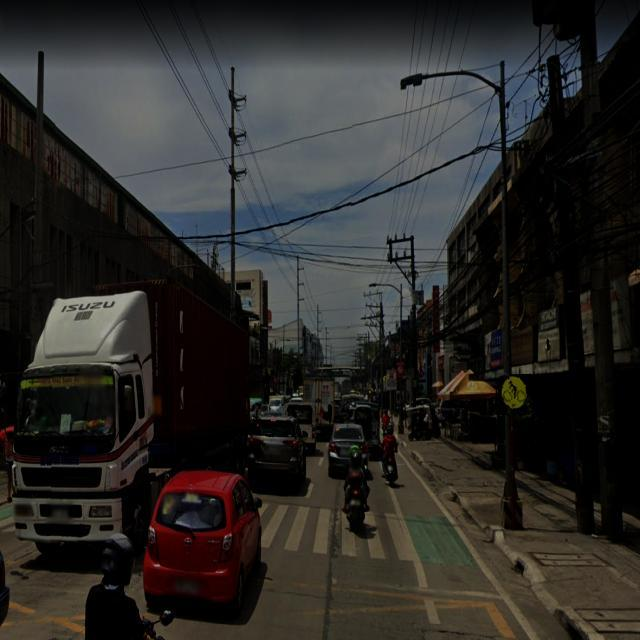bike lane: (495, 374, 530, 416)
